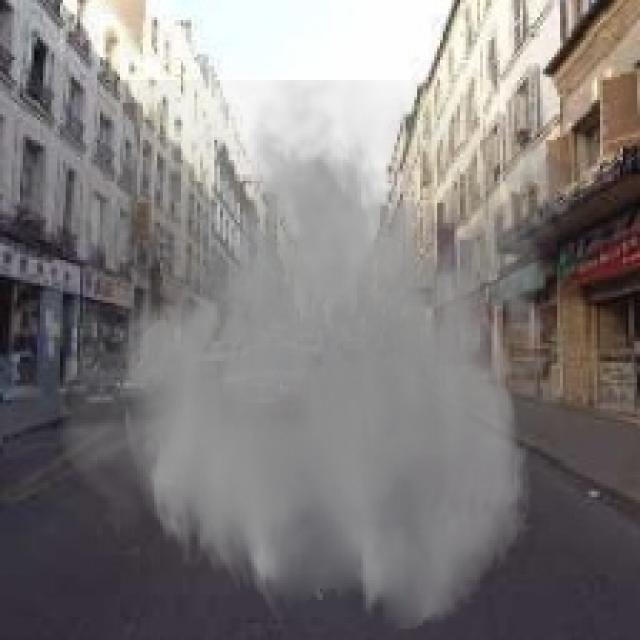smoke: (46, 80, 588, 634)
